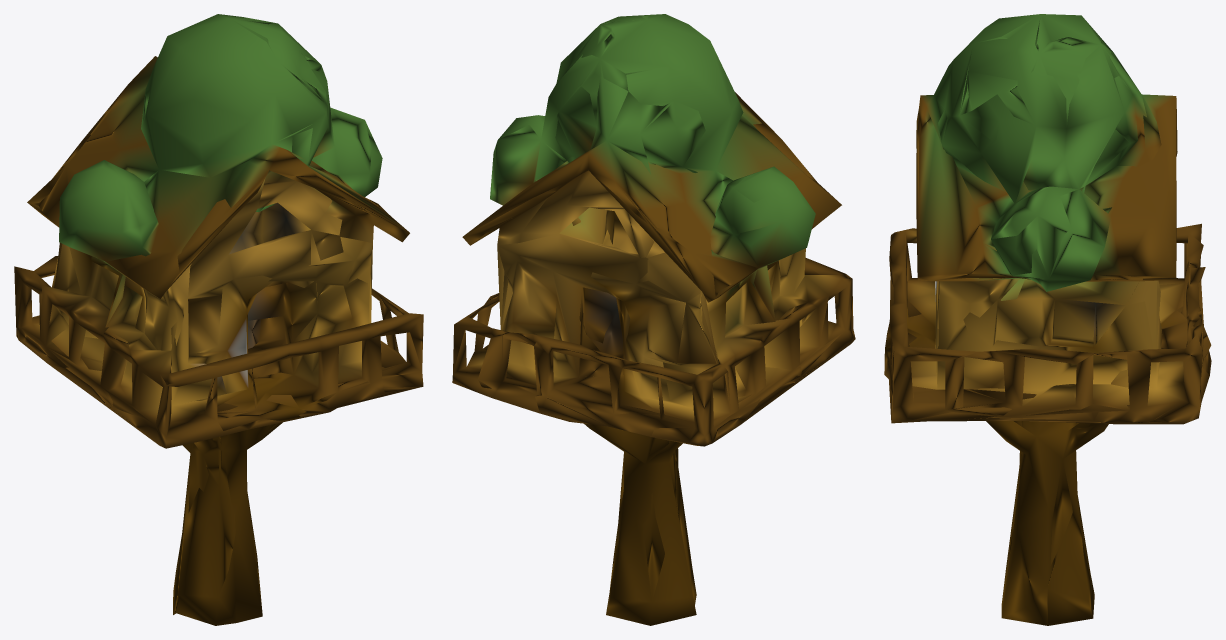
Rendered from gen3d-treehouse-lod0.glb.
The picture shows the model from 3 angles, left to right: view 1: azimuth 30°, elevation 25°; view 2: azimuth 150°, elevation 25°; view 3: azimuth 270°, elevation 25°; orthographic projection. The views are drawn at different scales.
Visible parts, largest first — view 1: part_0; view 2: part_0; view 3: part_0.
Boxes of the visible parts, bbox=[...] form: part_0: bbox=[14, 14, 423, 625]; part_0: bbox=[452, 14, 855, 625]; part_0: bbox=[884, 14, 1211, 625].
Bounding box in the file's own units: 0.5633 × 1 × 0.4958.
